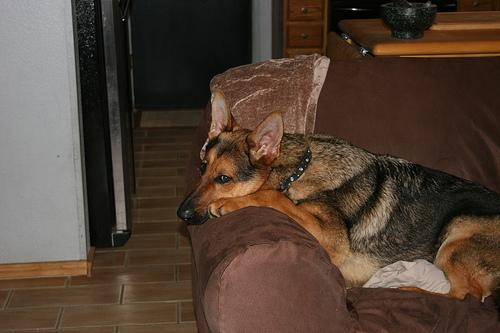German_shepherd: (177, 85, 499, 302)
